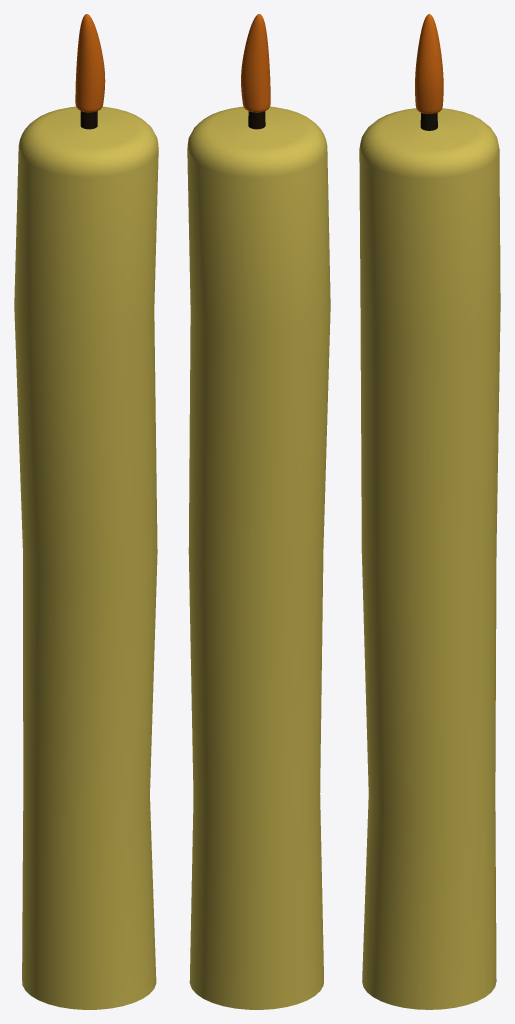
Rendered from Candle.obj.
3 renders of one model, left to right at view 1: azimuth 30°, elevation 25°; view 2: azimuth 150°, elevation 25°; view 3: azimuth 270°, elevation 25°, orthographic.
Visible parts, largest first — view 1: Cylinder; view 2: Cylinder; view 3: Cylinder.
Boxes of the visible parts, x1,y1,x2,y2 form: Cylinder: (14,14,158,1009); Cylinder: (187,14,330,1009); Cylinder: (359,14,500,1009).
Size of the model in its own units: 0.2783 by 2.05 by 0.2719.
